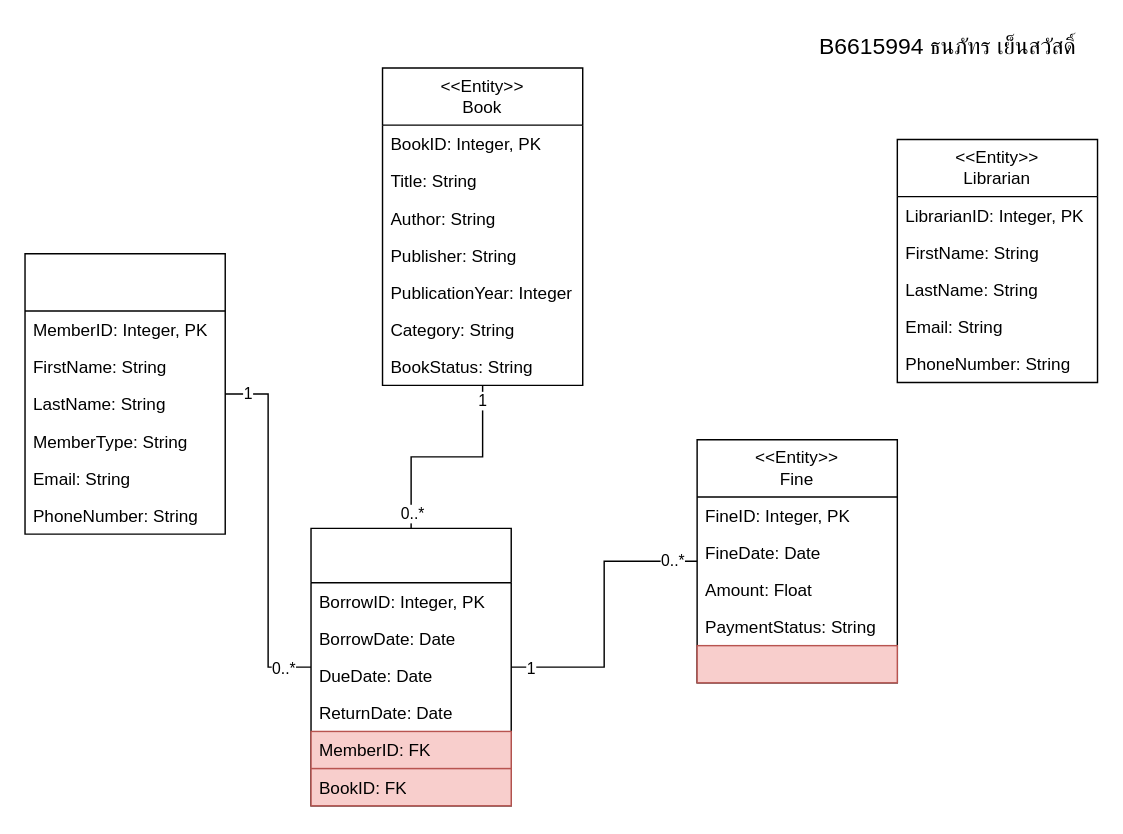
The diagram is 1123 pixels wide and 834 high, and some of its shapes have lost their labels. The box of each missing label's shape, as (x1, y1, x2, y2) in pixels:
<<Entity>> BorrowRecord: (310, 527, 511, 806)
<<Entity>> LibraryMember: (24, 252, 225, 534)
BorrowID: FK: (696, 644, 897, 683)
